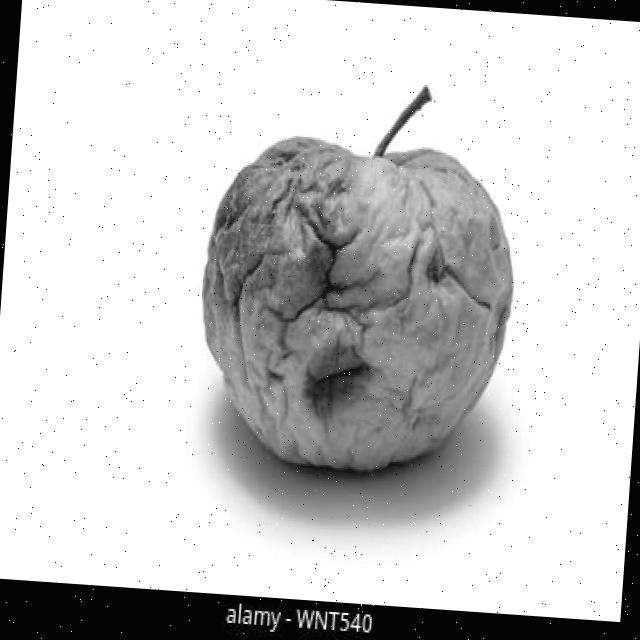overripe: (185, 125, 528, 488)
